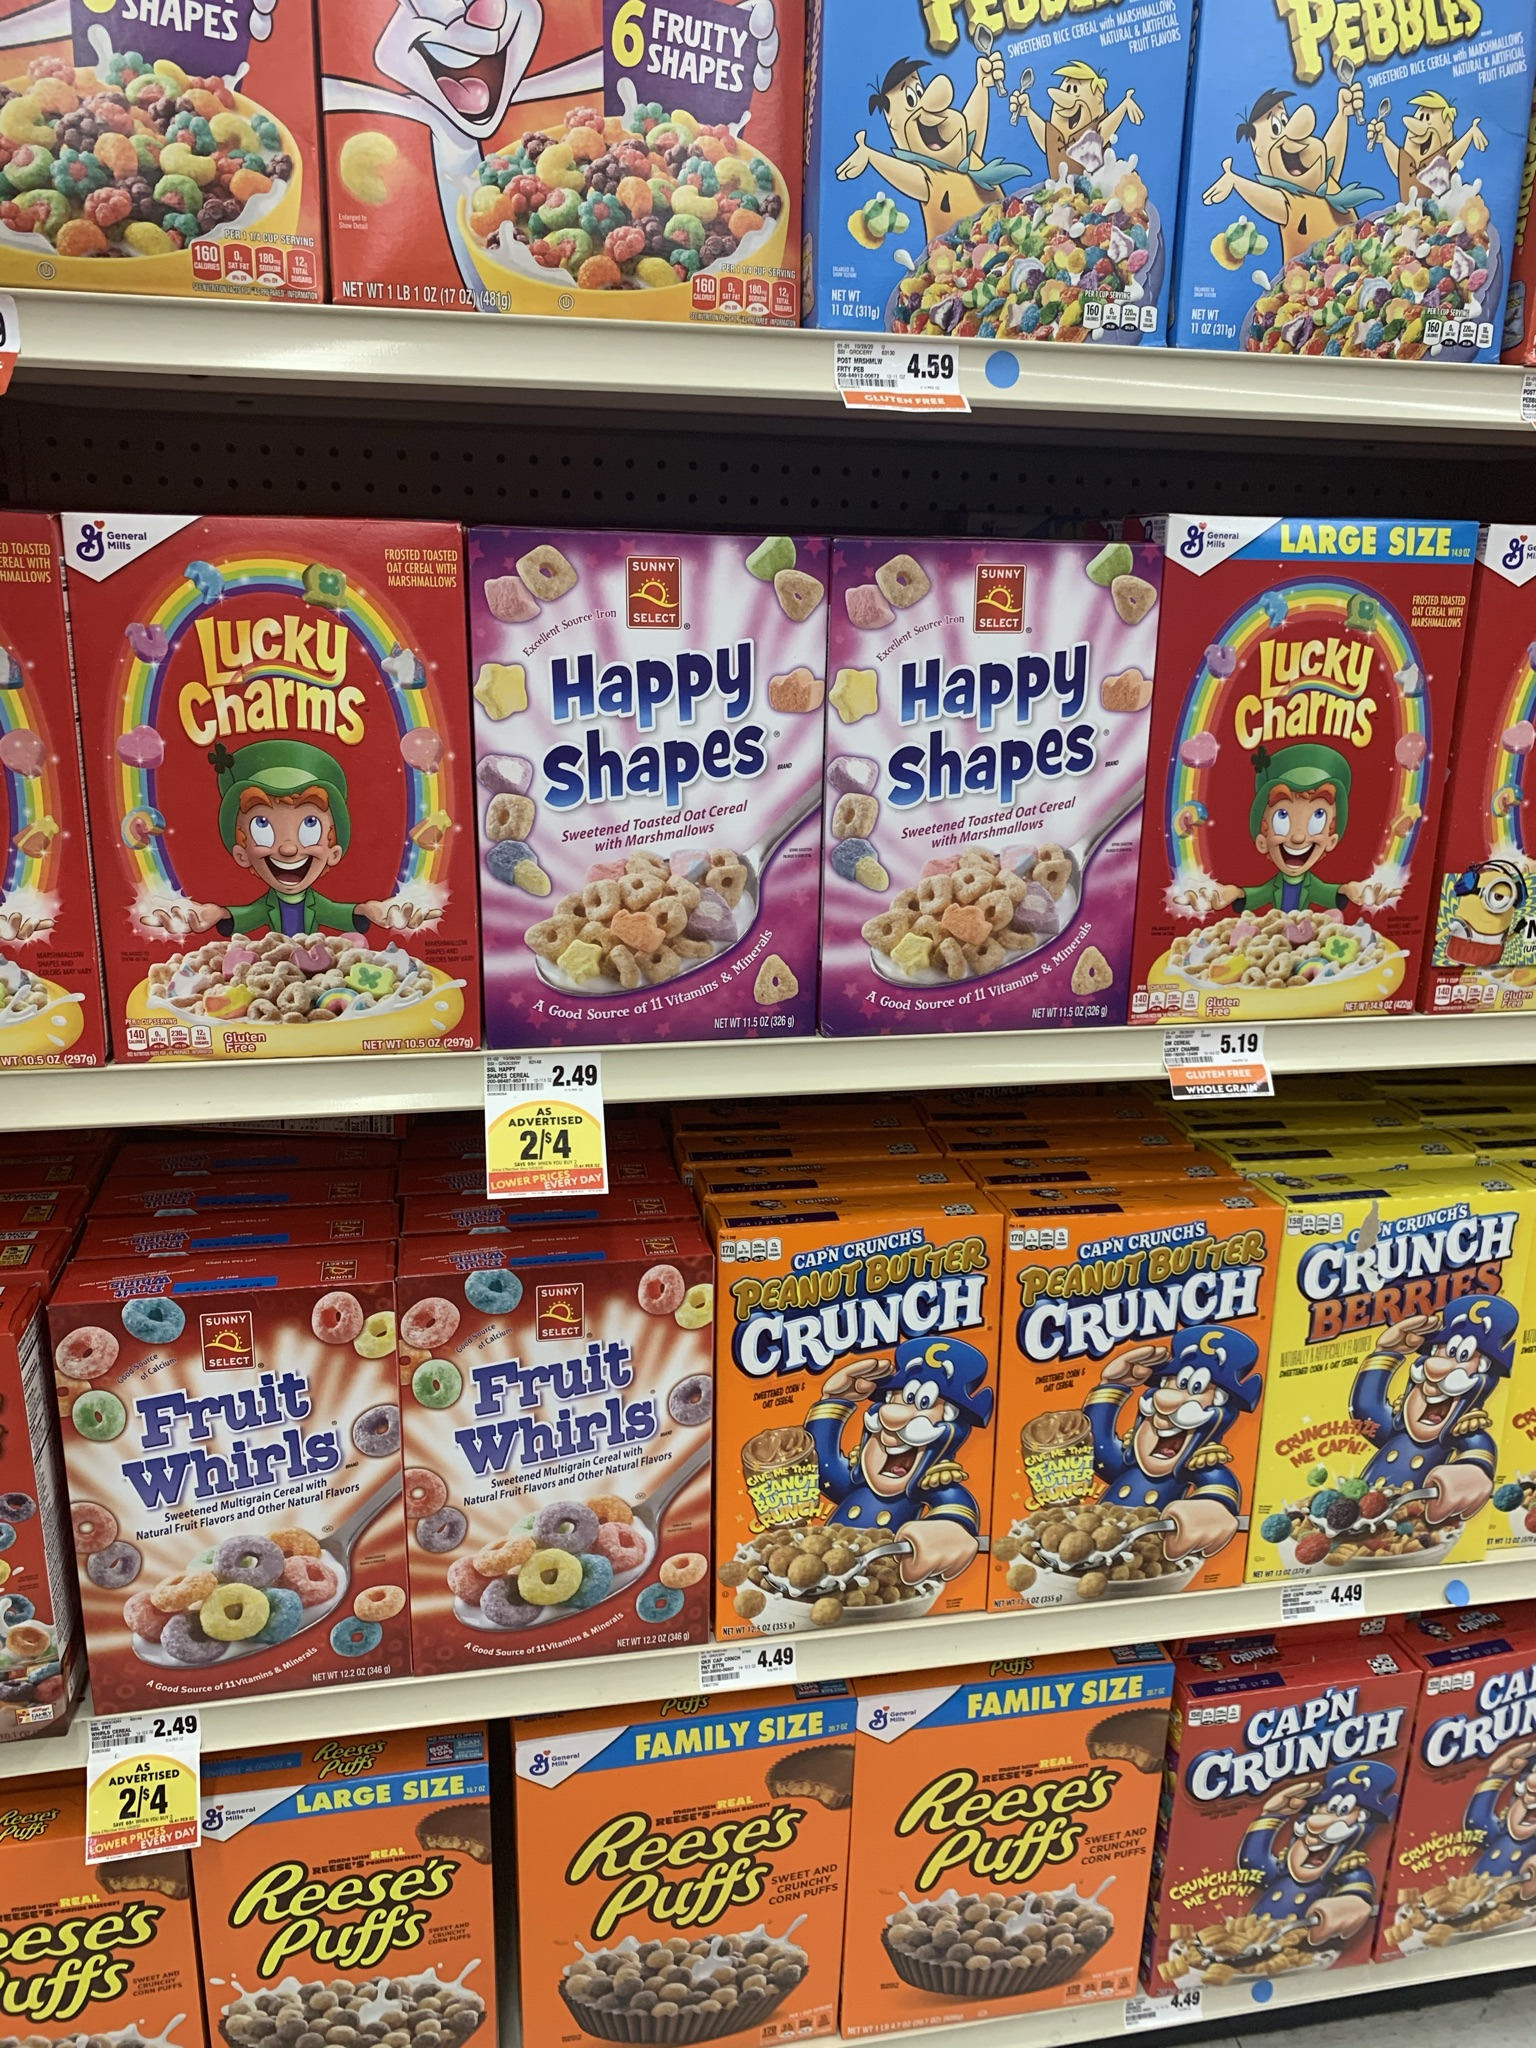box: (97, 532, 463, 1043), (494, 548, 810, 1032), (849, 542, 1123, 1021), (1171, 526, 1409, 998), (90, 1330, 386, 1674), (1212, 2, 1491, 355), (423, 1293, 707, 1638), (745, 1259, 984, 1617), (545, 1755, 829, 2033), (871, 1713, 1141, 1996), (1020, 1230, 1236, 1584), (1289, 1221, 1496, 1564), (216, 1838, 494, 2048), (1200, 1716, 1368, 1971), (1413, 1675, 1536, 1921)
